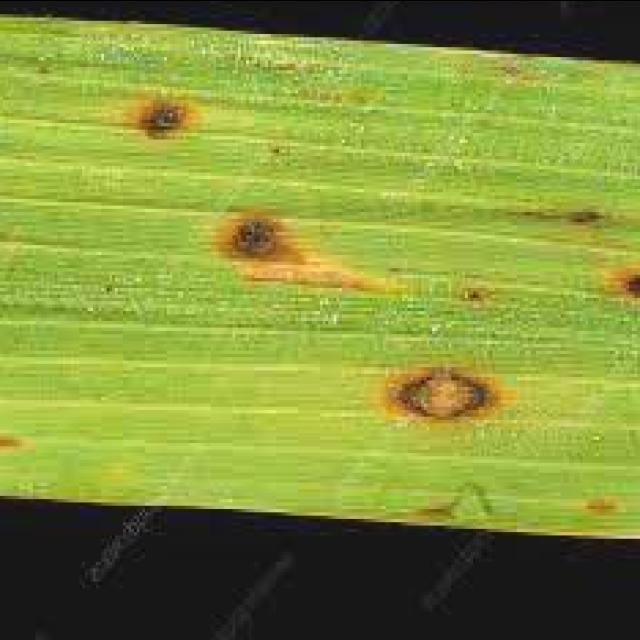Brown_Spot: (210, 198, 372, 307), (386, 346, 530, 438), (126, 60, 236, 178), (580, 488, 638, 531), (0, 426, 39, 476), (616, 267, 640, 310)
